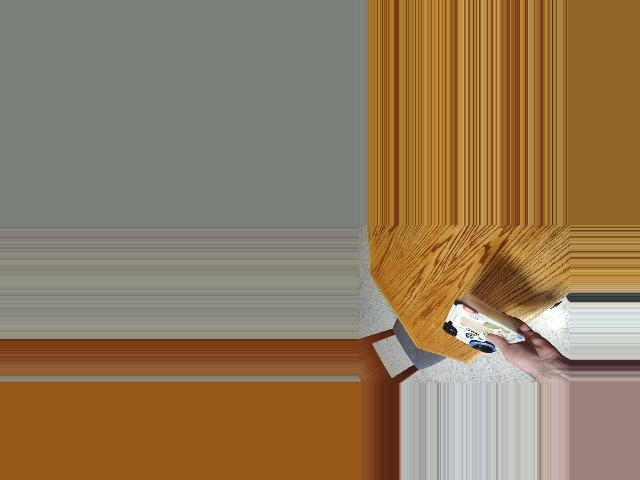cheese: (446, 286, 511, 363)
